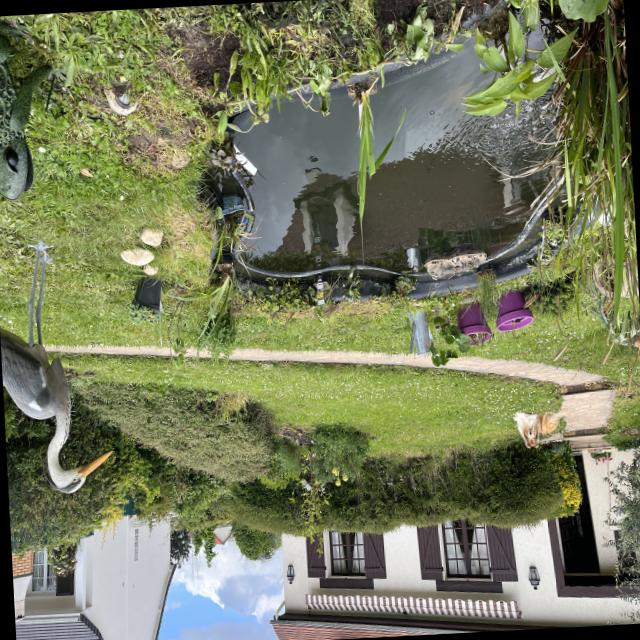Dog: (510, 393, 570, 458)
Heron: (0, 220, 122, 508)
